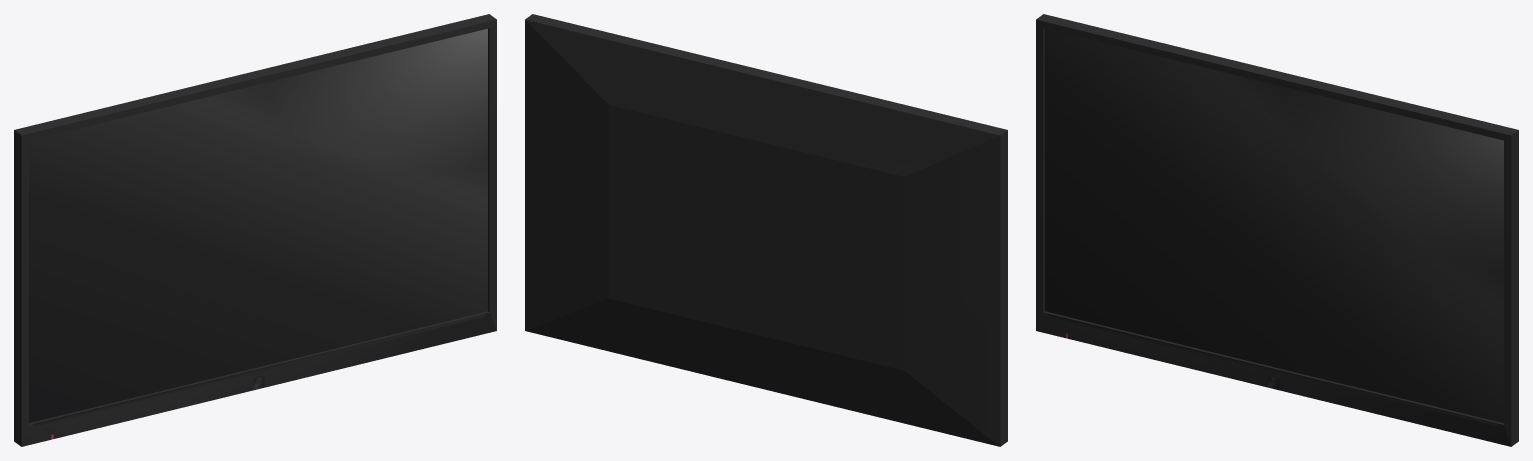
The picture shows the model from 3 angles, left to right: view 1: azimuth 30°, elevation 25°; view 2: azimuth 150°, elevation 25°; view 3: azimuth 330°, elevation 25°; orthographic projection.
Visible parts, largest first — view 1: tv; view 2: tv; view 3: tv.
Part boxes in pixels (<box>): tv: <box>14,14,496,446</box>; tv: <box>525,14,1007,446</box>; tv: <box>1036,14,1518,446</box>.
Size of the model in its own units: 319 by 200 by 16.04.
Materials: 1 (1 with a texture image).
